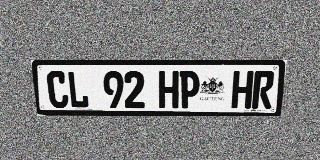2: (124, 71, 145, 108)
9: (103, 71, 124, 108)
C: (46, 71, 69, 108)
H: (231, 71, 254, 109), (159, 71, 179, 108)
L: (67, 71, 89, 108)
P: (179, 71, 200, 108)
R: (251, 71, 275, 109)
